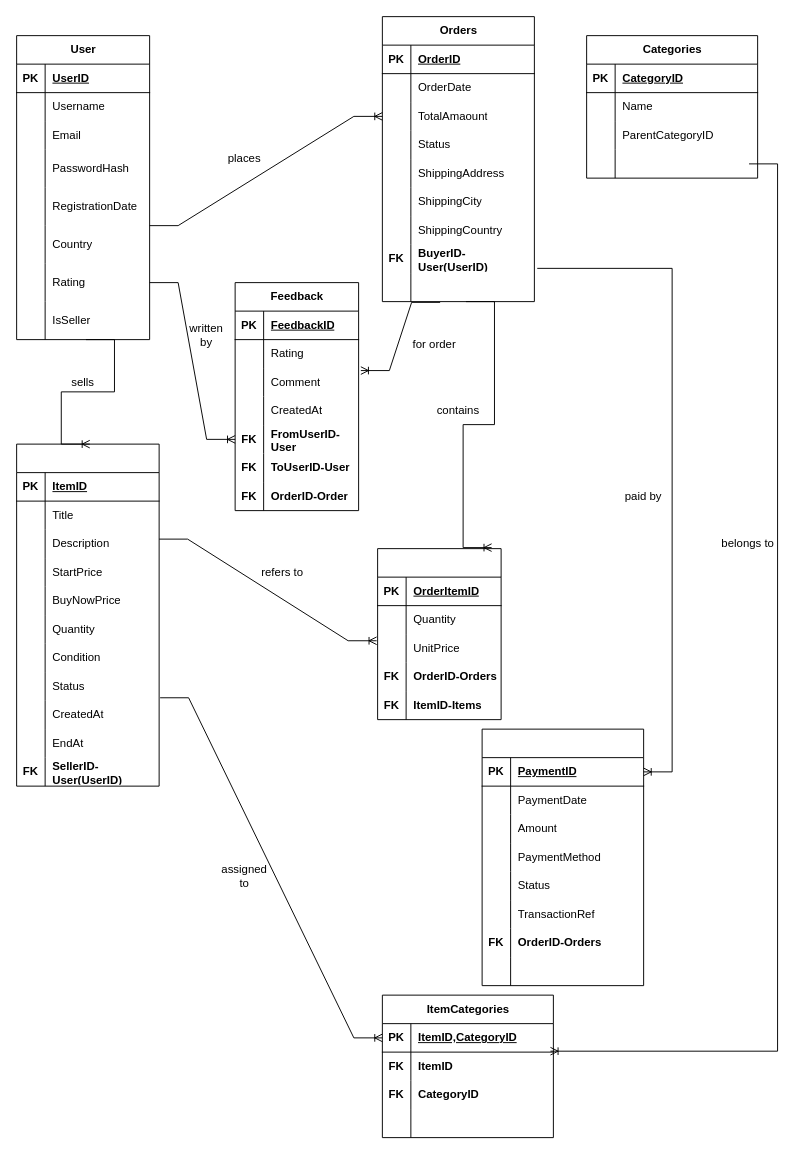
This 802x1154 diagram has some shape labels left out. The shapes that lost their labels are listed below. From the top down, each one's box as (x1, y1, x2, y2) in pixels, then its label:
(16, 443, 159, 786): Items
(377, 548, 501, 720): OrderItems
(481, 728, 644, 986): Payments
